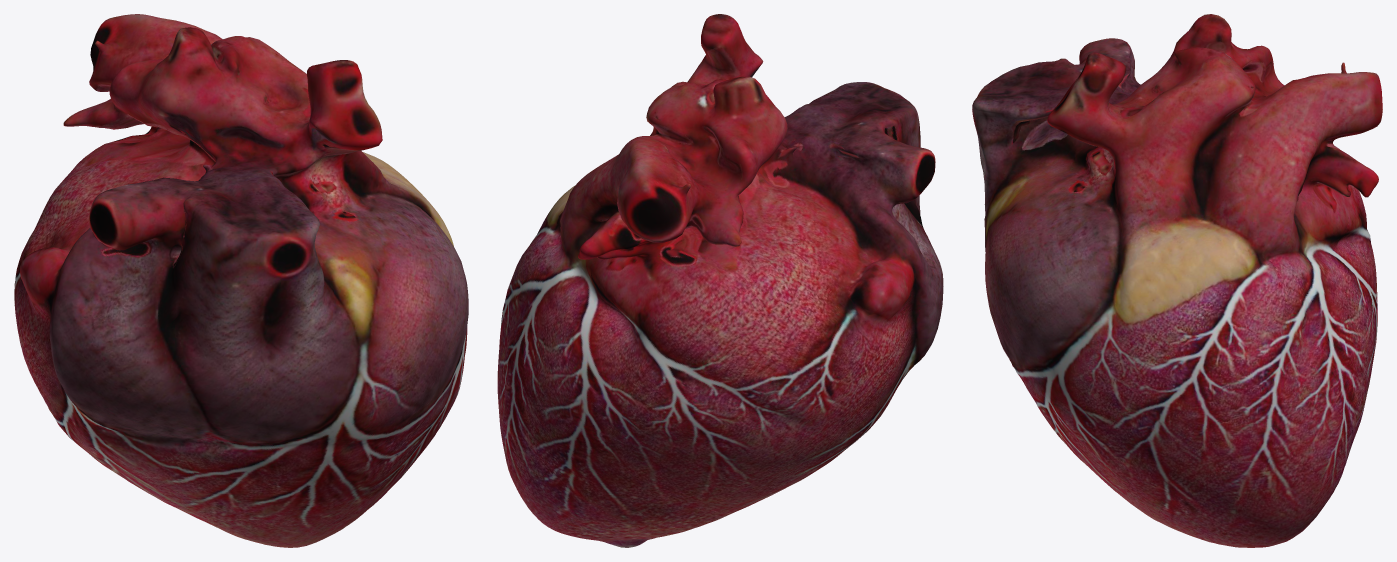
File: ed06ea3edb14_human_heart__photor.fbx
3 renders of one model, left to right at view 1: azimuth 30°, elevation 25°; view 2: azimuth 150°, elevation 25°; view 3: azimuth 270°, elevation 25°, orthographic. The views are drawn at different scales.
Parts seen in each view (by area): view 1: mesh; view 2: mesh; view 3: mesh.
Boxes of the visible parts, x1,y1,x2,y2 form: mesh: (14,14,468,547); mesh: (497,14,943,547); mesh: (972,14,1382,547).
Size of the model in its own units: 81.08 by 99.67 by 77.56.
